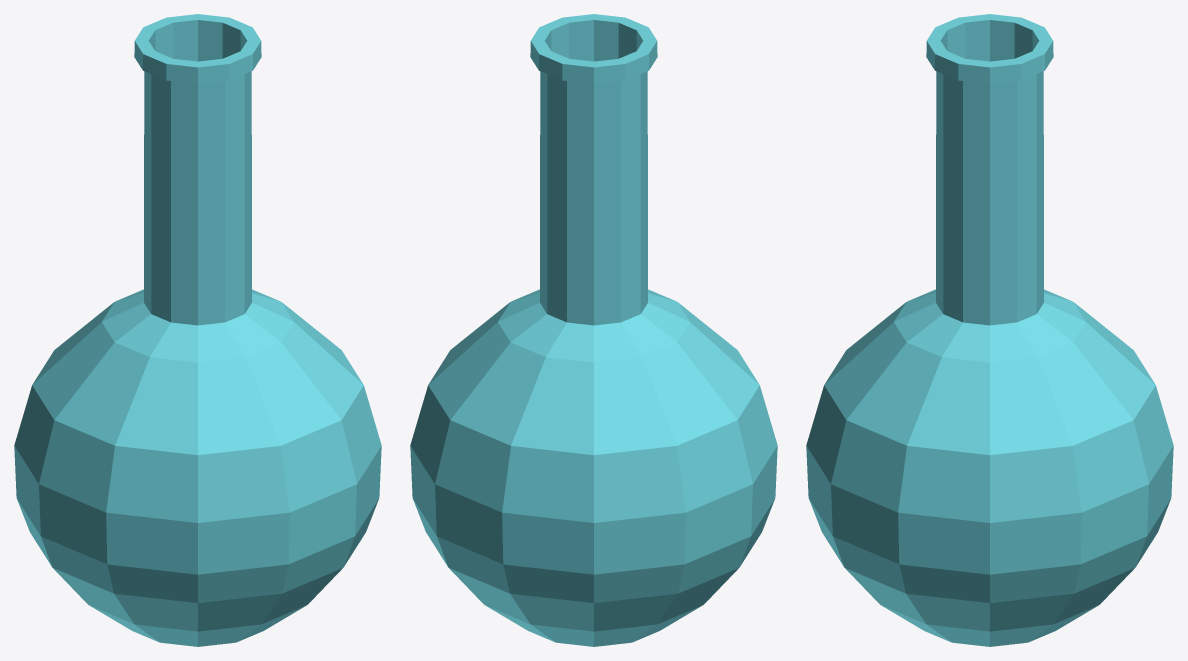
Rendered from SM_Flask_02_A.fbx.
The picture shows the model from 3 angles, left to right: view 1: azimuth 30°, elevation 25°; view 2: azimuth 150°, elevation 25°; view 3: azimuth 270°, elevation 25°; orthographic projection.
Visible parts, largest first — view 1: SM_Flask_02_A; view 2: SM_Flask_02_A; view 3: SM_Flask_02_A.
Part boxes in pixels (x1,y1,x2,y2): SM_Flask_02_A: [14, 14, 381, 646]; SM_Flask_02_A: [410, 14, 777, 646]; SM_Flask_02_A: [806, 14, 1173, 646].
Bounding box in the file's own units: 13.05 × 22.76 × 13.05.
